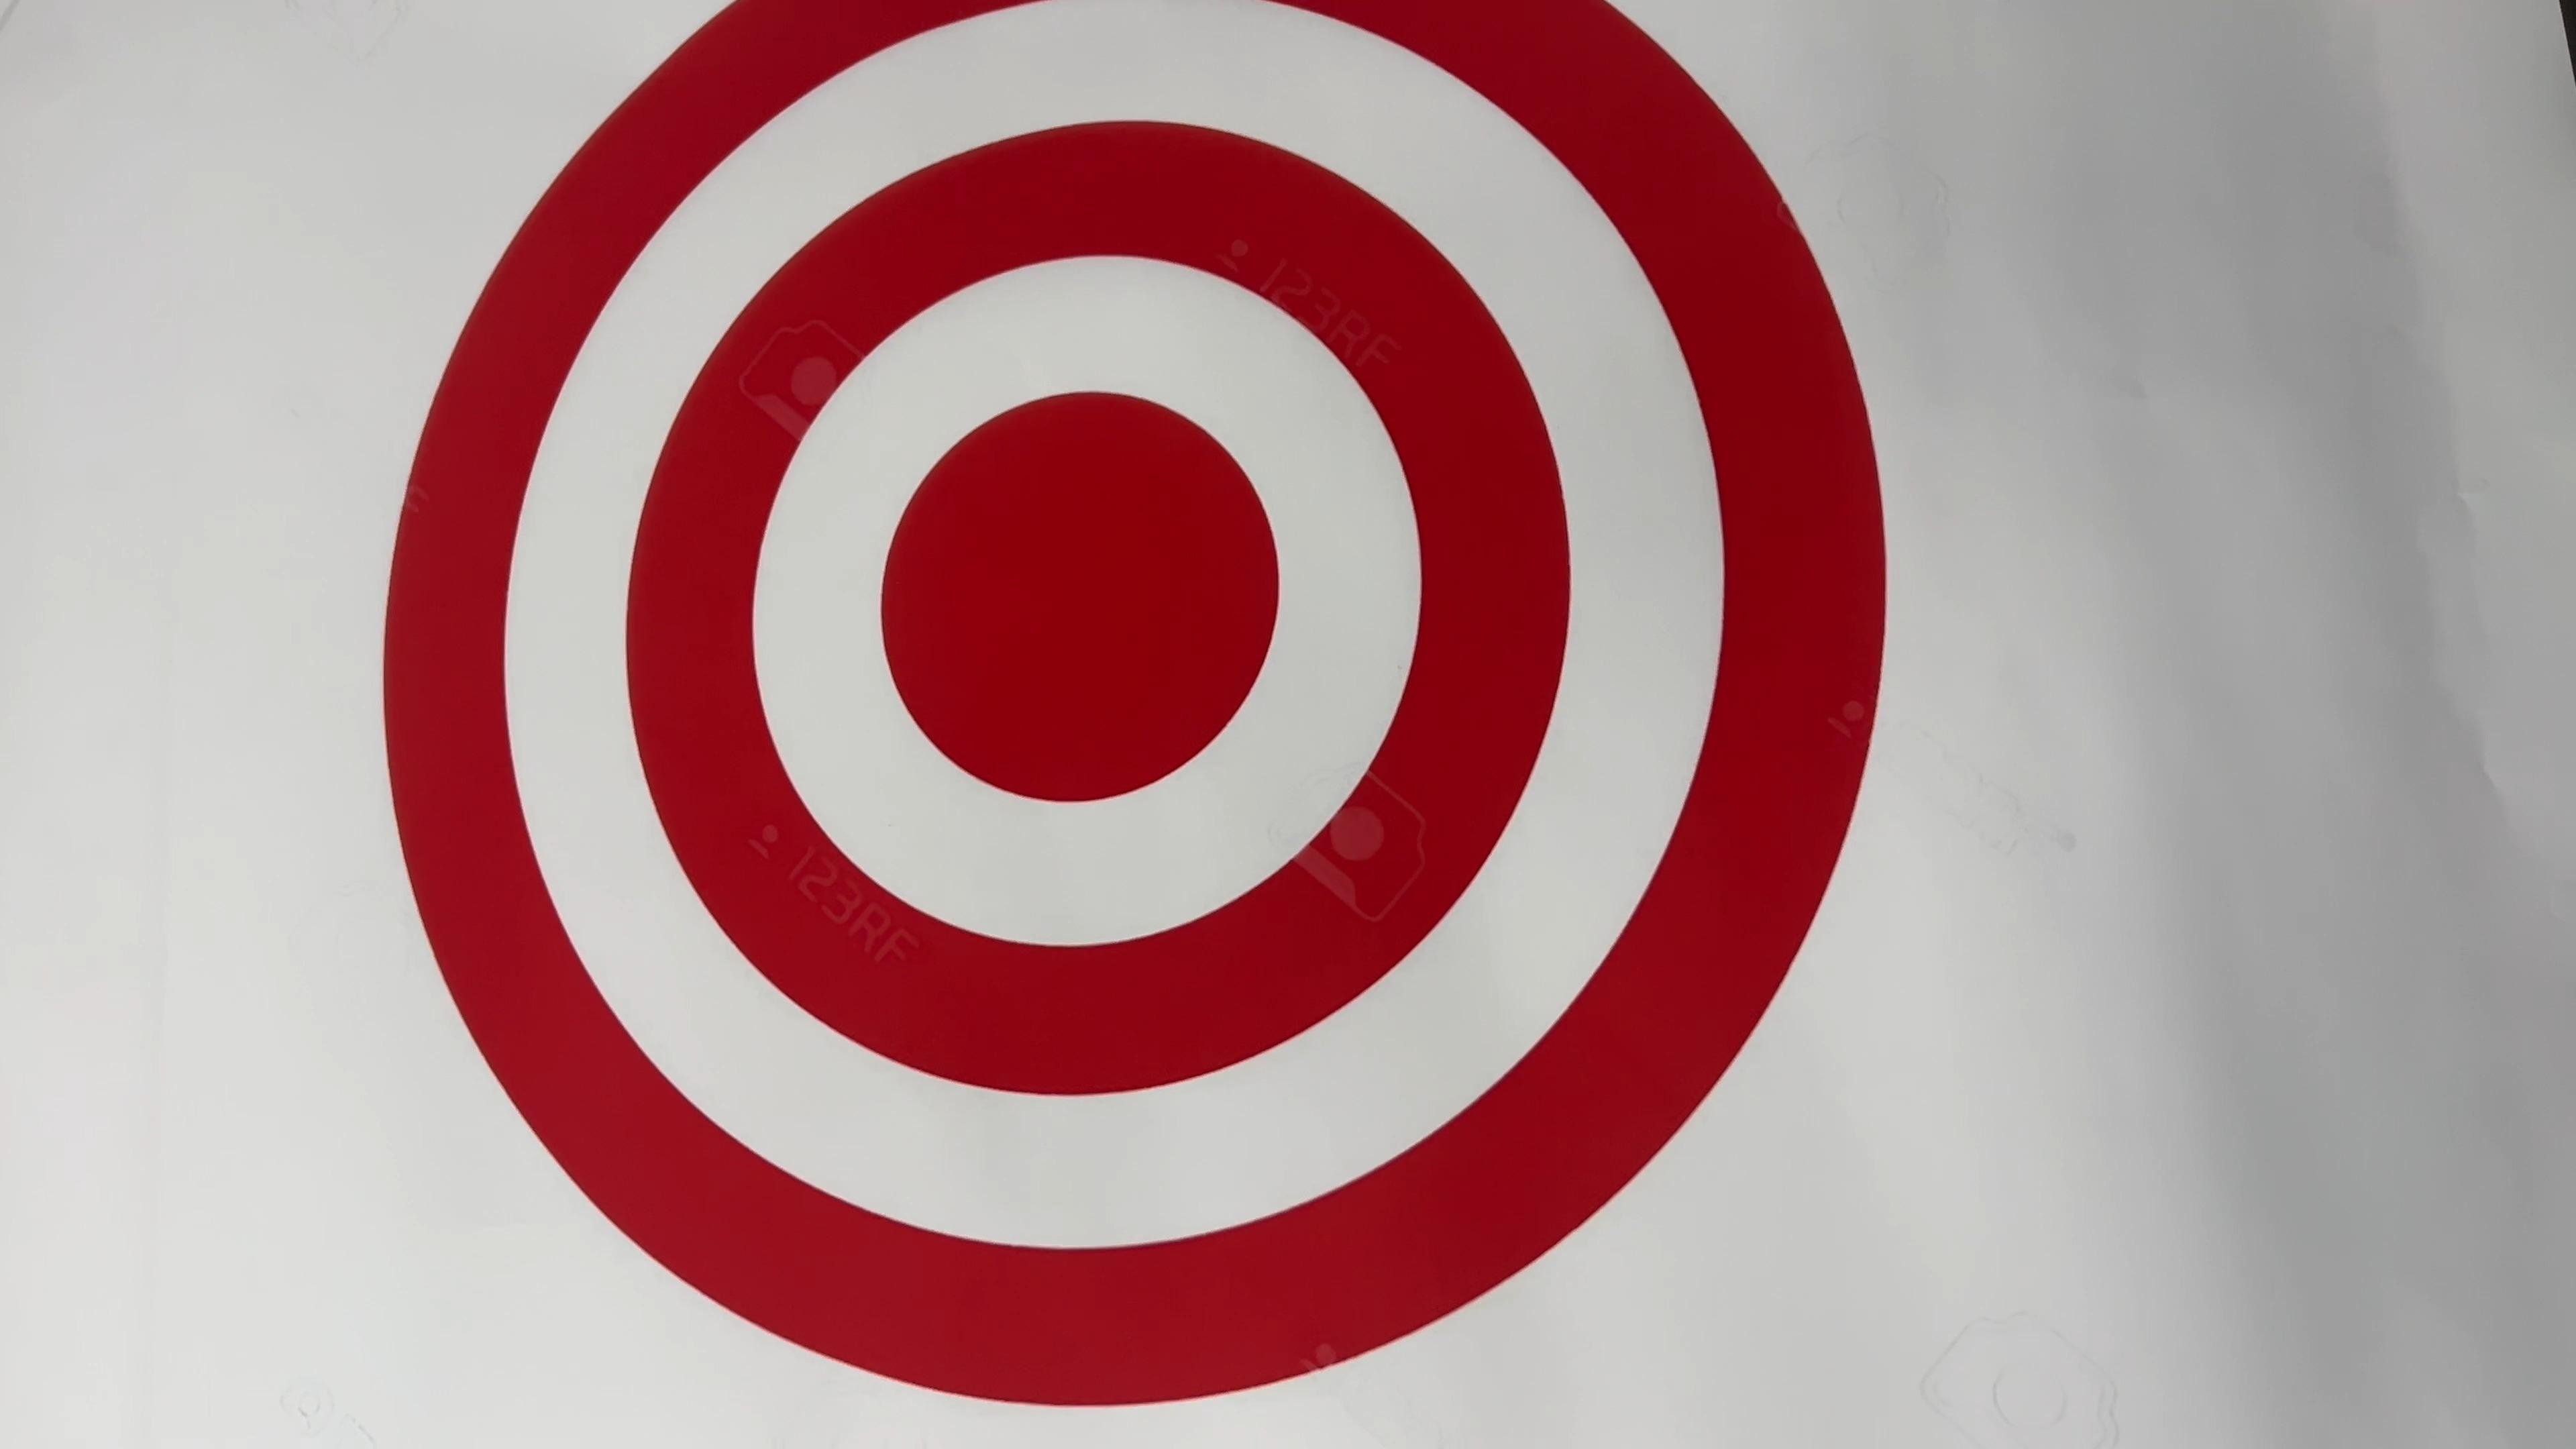target_red: (347, 0, 1934, 1449)
